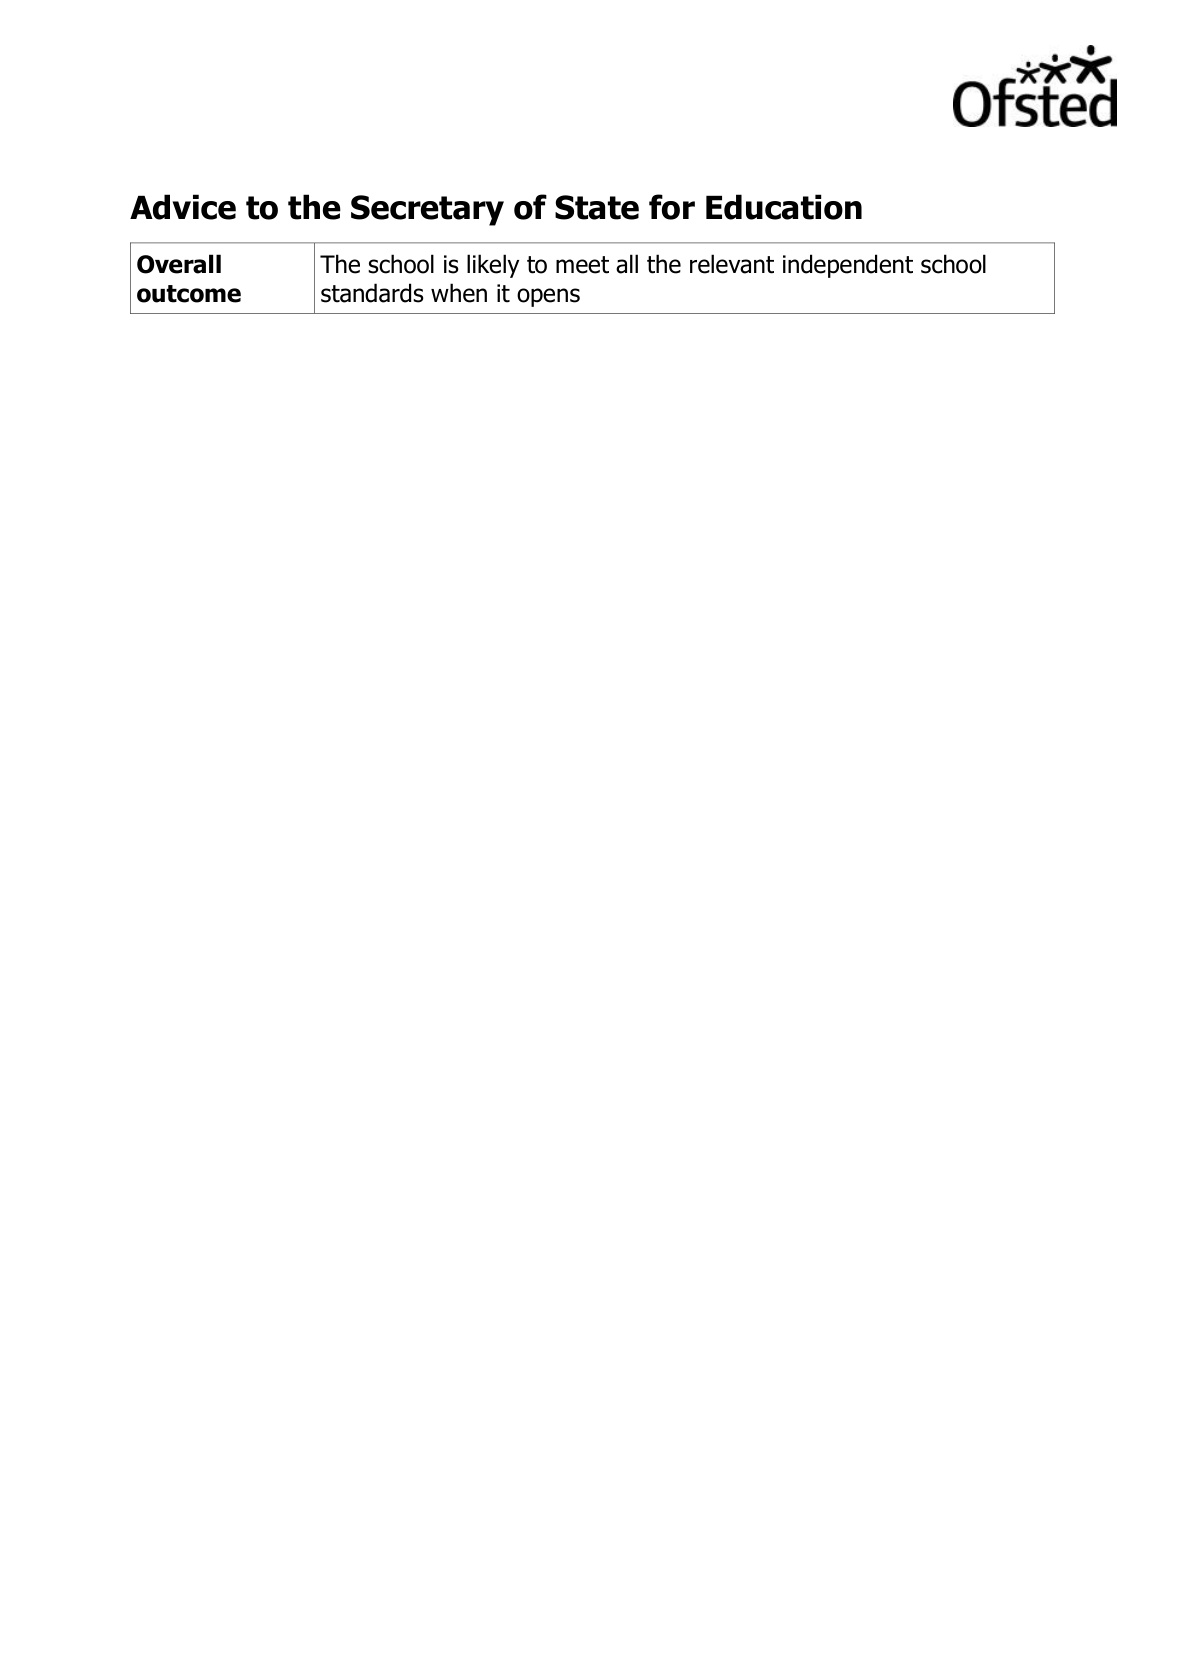full_lined: (129, 241, 1055, 314)
